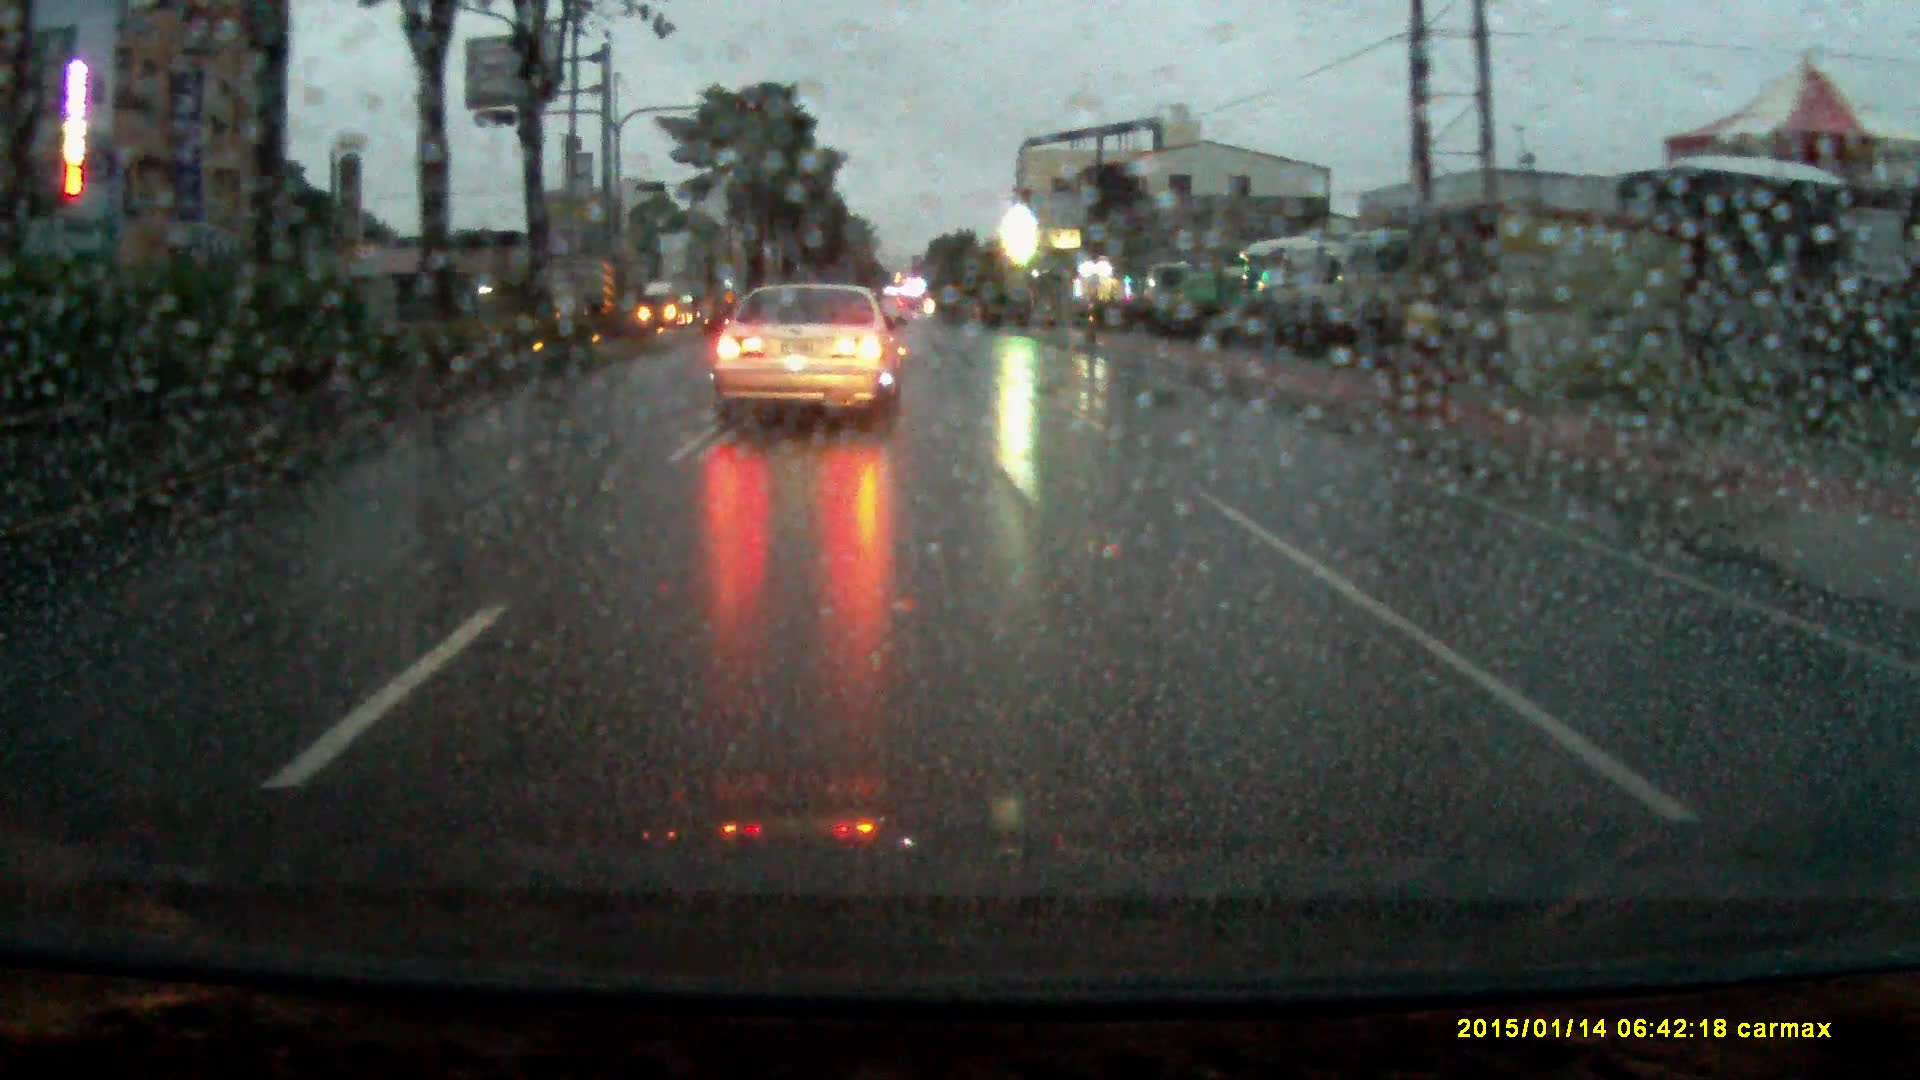vehicle: (711, 278, 910, 443), (1336, 232, 1441, 351), (1244, 241, 1336, 345), (1168, 268, 1240, 324), (1143, 264, 1200, 334), (644, 284, 694, 332)
